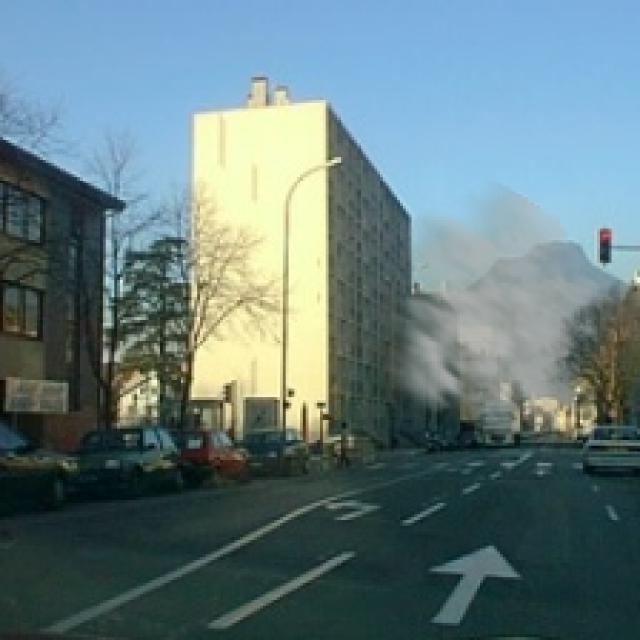smoke: (349, 174, 614, 454)
